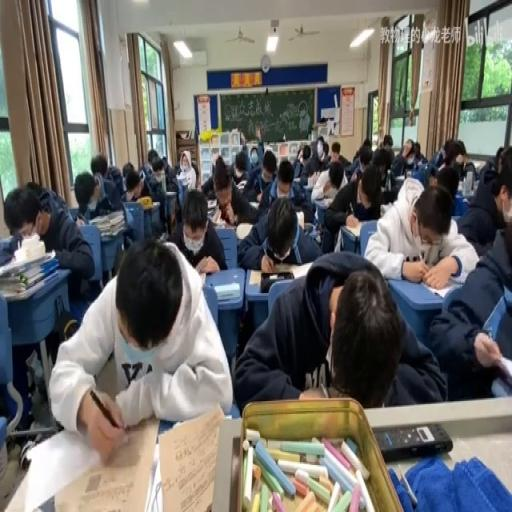calculator: (157, 402, 227, 512), (248, 259, 314, 283), (143, 443, 162, 512), (87, 208, 125, 234), (422, 279, 462, 300), (214, 280, 240, 300), (344, 216, 364, 236), (234, 222, 253, 240), (205, 198, 218, 219), (174, 170, 190, 184), (380, 200, 394, 214), (304, 175, 318, 189), (0, 235, 13, 250), (142, 196, 158, 208), (322, 188, 338, 200), (295, 209, 304, 229), (314, 196, 330, 206), (162, 186, 176, 196), (198, 269, 205, 286), (234, 179, 246, 188), (248, 199, 258, 209), (75, 214, 85, 224), (394, 172, 404, 181), (292, 176, 302, 184), (405, 168, 412, 178)
paper: (50, 235, 230, 462), (234, 253, 438, 411), (364, 175, 478, 289), (2, 180, 94, 302), (237, 189, 320, 270), (456, 145, 510, 252), (166, 186, 226, 273), (324, 160, 384, 242), (138, 158, 177, 229), (235, 148, 270, 203), (90, 152, 124, 199), (298, 135, 330, 178), (389, 136, 418, 176), (30, 180, 64, 214), (434, 164, 460, 200), (370, 148, 392, 188), (426, 139, 448, 172), (212, 155, 230, 192), (328, 138, 350, 168), (275, 160, 294, 190), (448, 138, 466, 168), (494, 200, 510, 230), (417, 162, 435, 188), (462, 160, 477, 188), (328, 165, 342, 189), (262, 151, 276, 175), (358, 144, 371, 169), (170, 198, 180, 229), (344, 159, 359, 179), (122, 160, 134, 184), (494, 145, 505, 168), (190, 160, 199, 188), (292, 156, 302, 180), (380, 132, 394, 148), (248, 146, 258, 165), (147, 148, 157, 165), (26, 179, 39, 189), (413, 141, 420, 158), (182, 158, 188, 168), (161, 155, 166, 164)
person: (373, 422, 452, 461)
